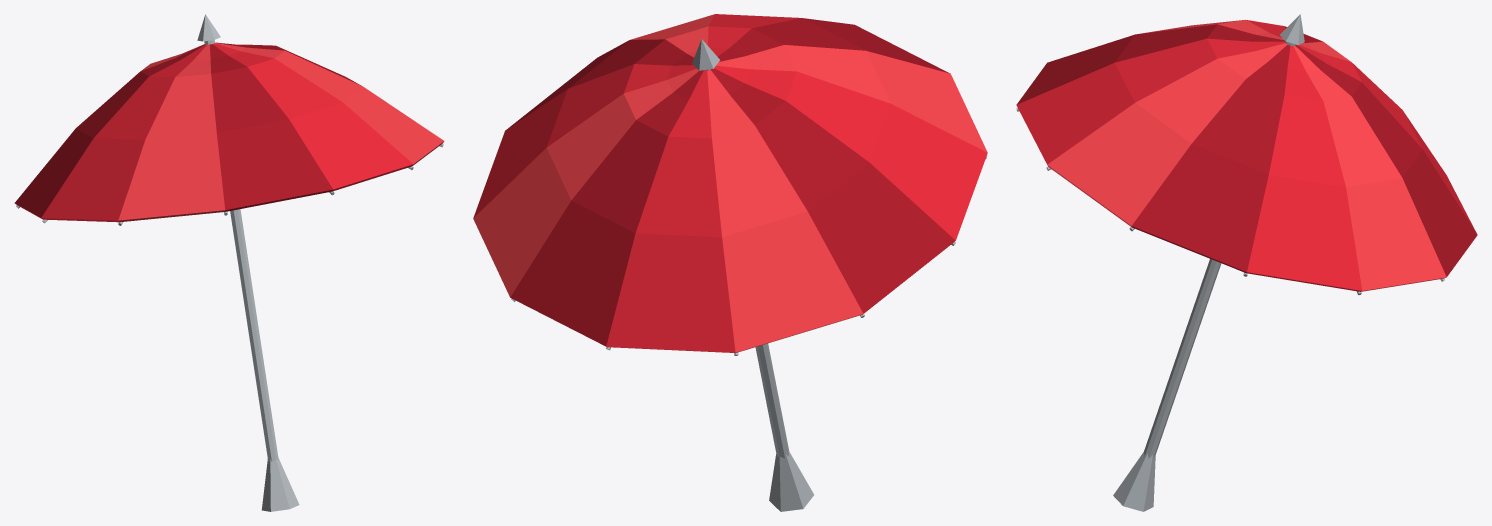
Rendered from Sombrilla_color.fbx.
3 views of the same model, side by side, from view 1: azimuth 30°, elevation 25°; view 2: azimuth 150°, elevation 25°; view 3: azimuth 270°, elevation 25° (orthographic). The views are drawn at different scales.
Parts seen in each view (by area): view 1: Cubierta roja low poly, Poste central de aluminio, Punta para clavar en la arena; view 2: Cubierta roja low poly, Punta para clavar en la arena, Poste central de aluminio; view 3: Cubierta roja low poly, Poste central de aluminio, Punta para clavar en la arena.
Boxes of the visible parts, <box> form: Cubierta roja low poly: <box>14,42,444,222</box>; Poste central de aluminio: <box>204,40,278,462</box>; Punta para clavar en la arena: <box>261,458,299,511</box>; Cubierta roja low poly: <box>473,14,987,352</box>; Punta para clavar en la arena: <box>769,451,813,511</box>; Poste central de aluminio: <box>704,69,789,458</box>; Cubierta roja low poly: <box>1016,19,1477,291</box>; Poste central de aluminio: <box>1144,41,1295,458</box>; Punta para clavar en la arena: <box>1113,452,1155,511</box>.
Bounding box in the file's own units: 144 × 162 × 137.
